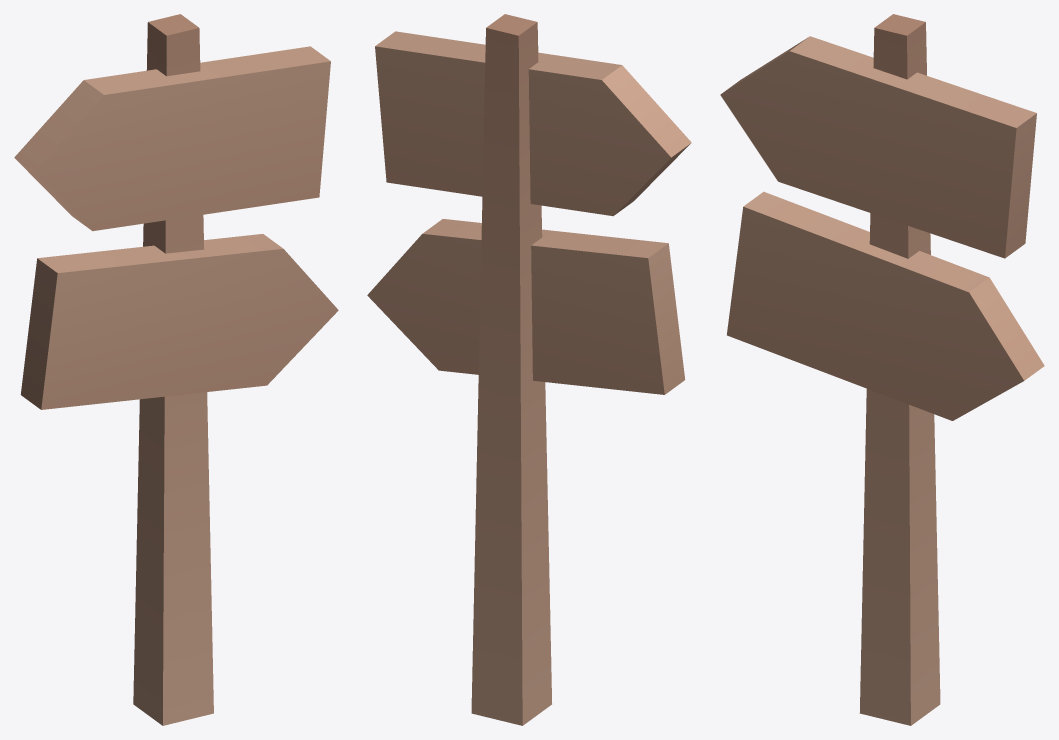
The model's file is signpost.glb.
3 renders of one model, left to right at view 1: azimuth 30°, elevation 25°; view 2: azimuth 150°, elevation 25°; view 3: azimuth 330°, elevation 25°, orthographic.
Visible parts, largest first — view 1: signpost; view 2: signpost; view 3: signpost.
Part boxes in pixels (bbox=[...]): signpost: bbox=[14, 14, 338, 725]; signpost: bbox=[367, 14, 691, 725]; signpost: bbox=[720, 14, 1044, 725].
Size of the model in its own units: 0.2141 by 0.4601 by 0.043.
